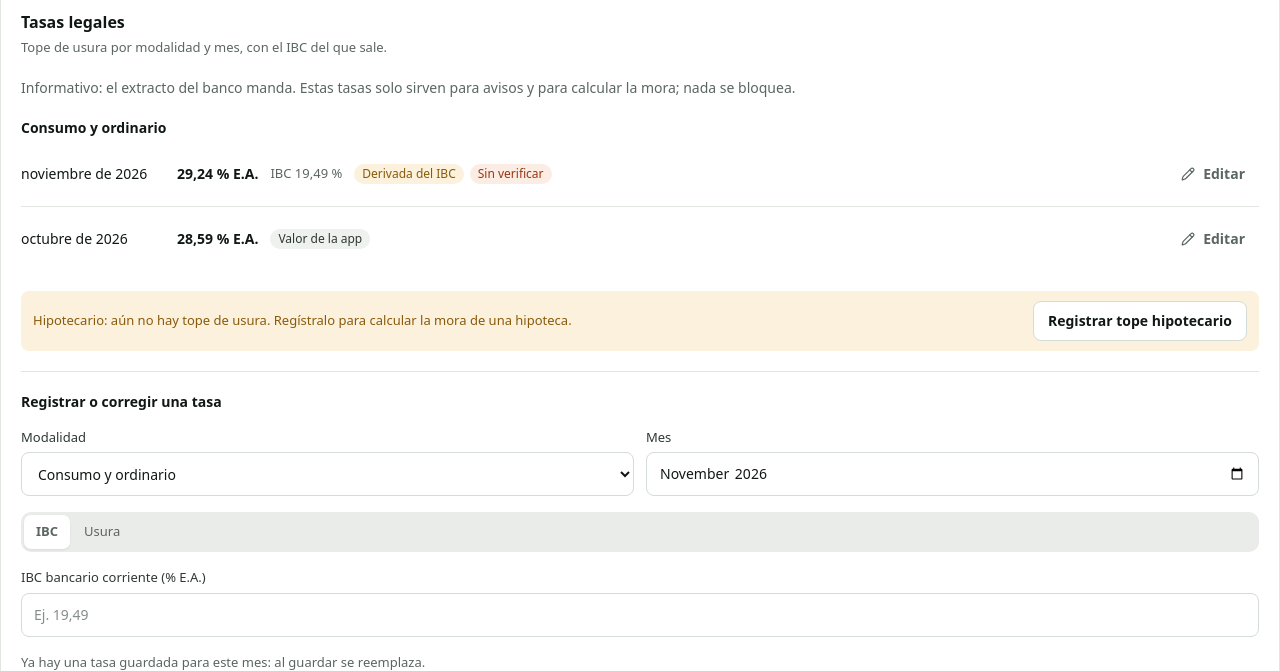
it: LegalRatesPanel rate form › disables save with an inline message for 4
Type "4" into the field labelled "IBC bancario corriente (% E.A.)" at [640, 615], box [21,593,1259,637]
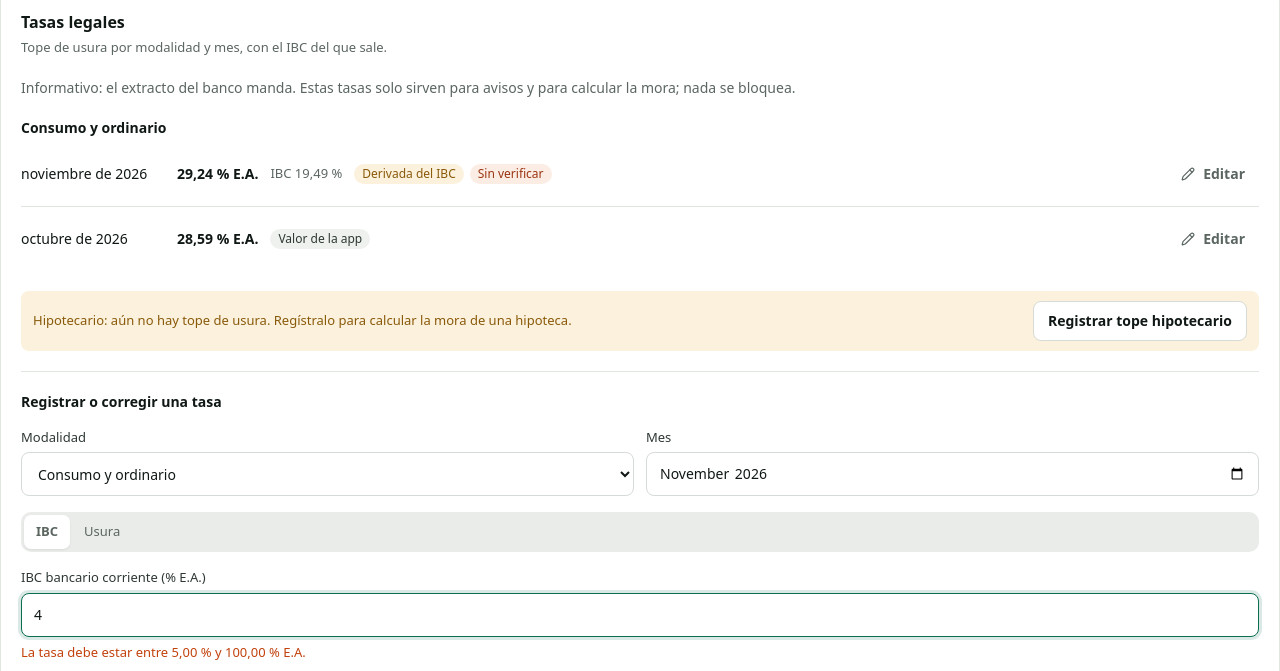
Result: the text "La tasa debe estar entre 5,00 % y 100,00 % E.A." is shown at [21,643,306,661]
Replace the text in the field labelled "IBC bancario corriente (% E.A.)" with "19,49" at [640, 615], box [21,593,1259,637]
(page scrolled)
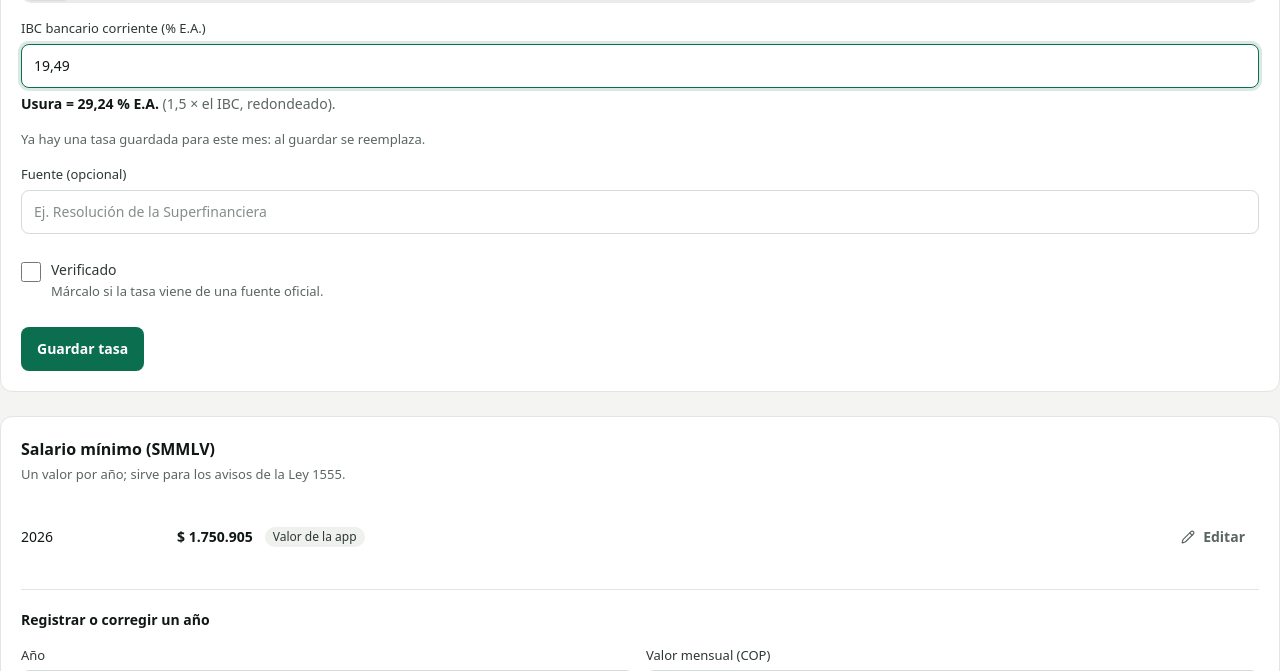
Expected: the text "La tasa debe estar entre 5,00 % y 100,00 % E.A." is not shown
Result: the button "Guardar tasa" is enabled at [21,327,144,371]
